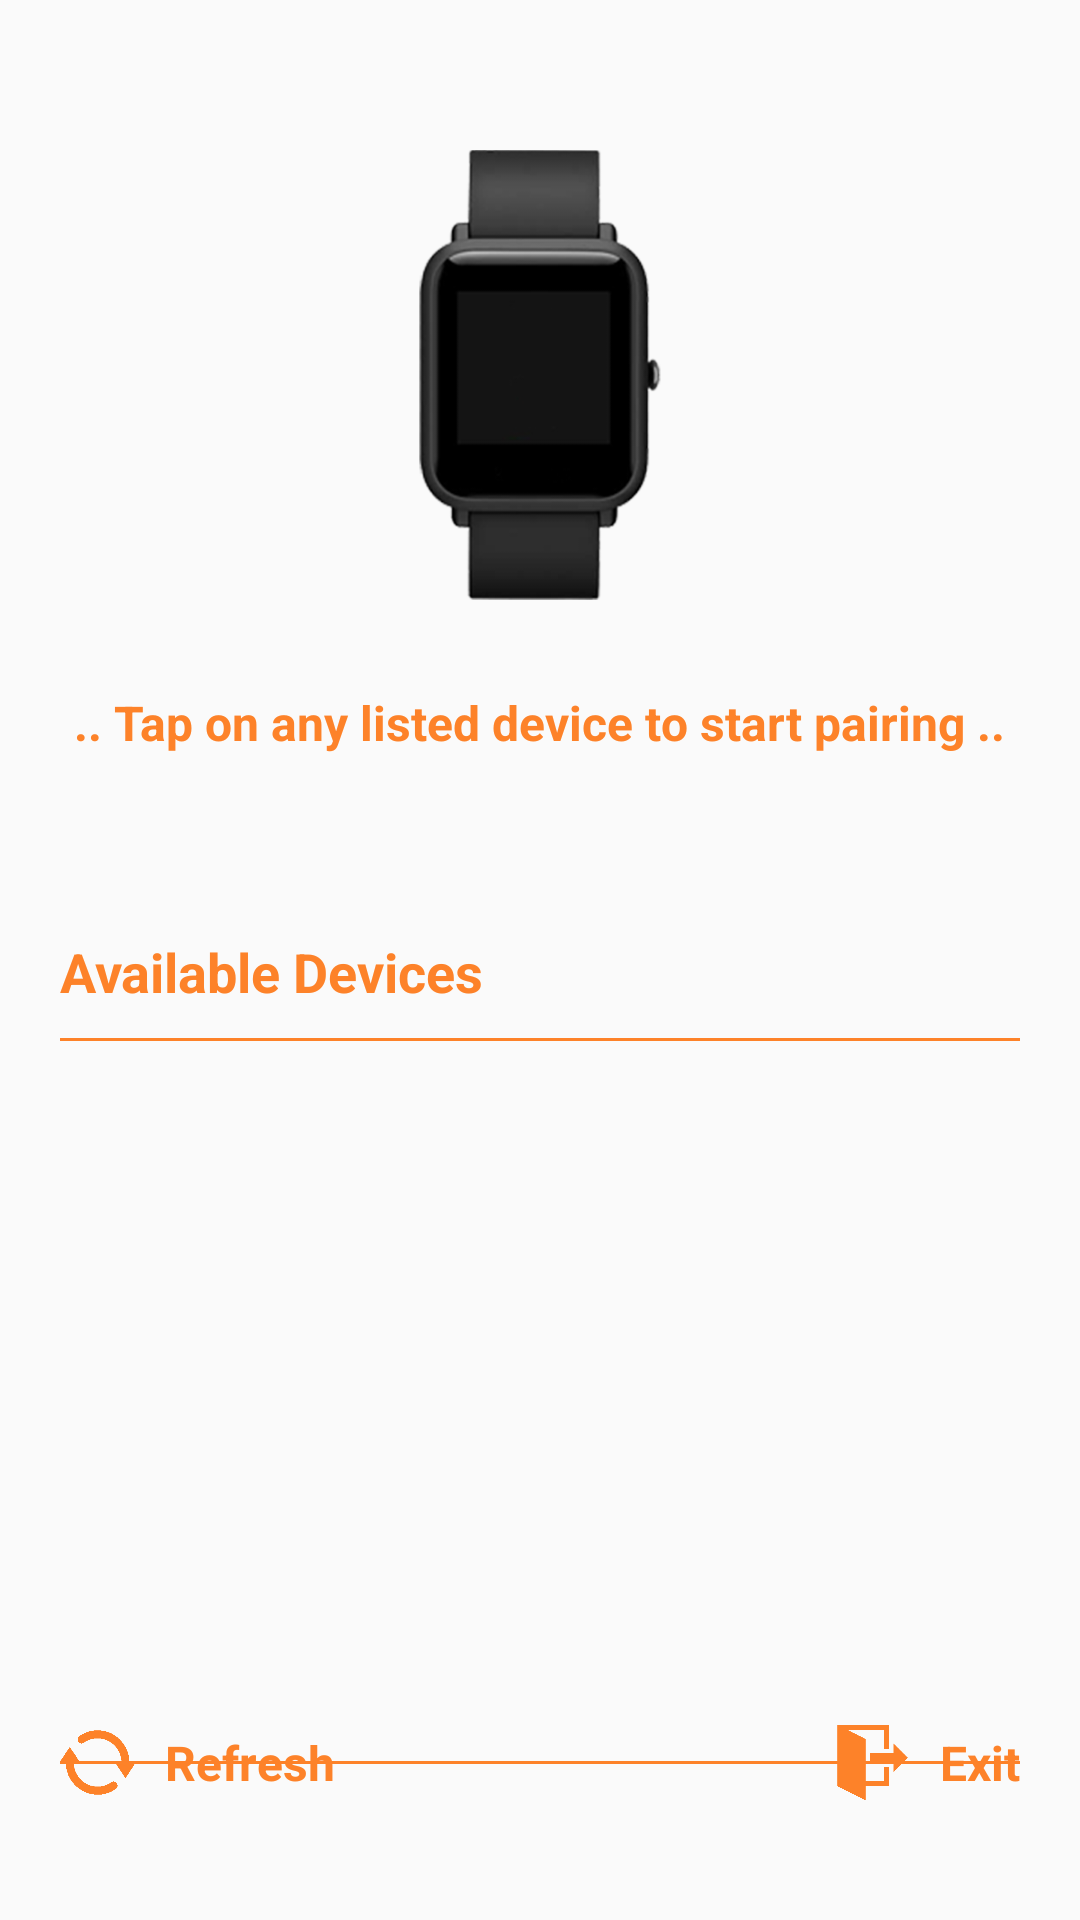

Icon bounding boxes for this 1080 × 1920 phone screenshot, format (x1, y1, x2, y2):
referesh: (60, 1730, 135, 1795)
